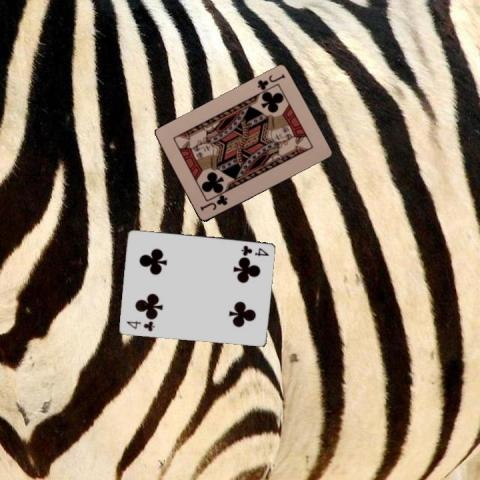4c: (123, 318, 156, 333), (238, 243, 269, 257)
Jc: (254, 71, 287, 92), (197, 192, 229, 212)
